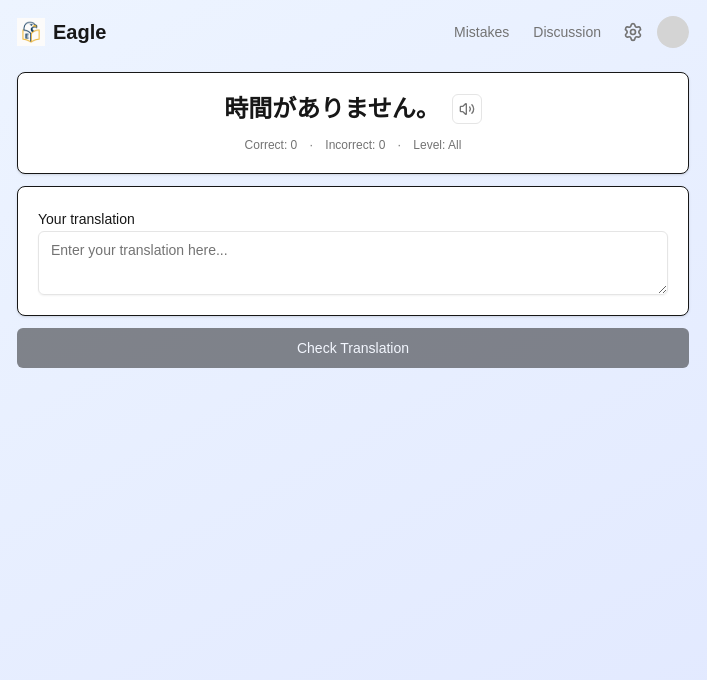
Test: review phase › fetches the explanation when Explain is pressed, and shows it beside the answer
Expected: the text "時間がありません。" is shown, [224,93,440,125]
Type "I have no time." into the text box named "Your English translation".
click(353, 263); type("I have no time.")  # box [38,231,668,295]
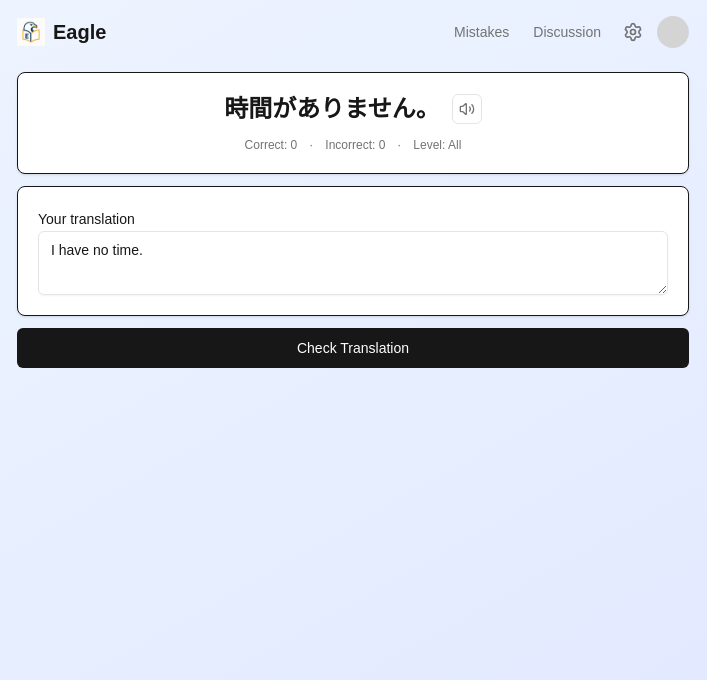
Click the button "Check Translation".
click(353, 348)  # box [17,328,689,368]
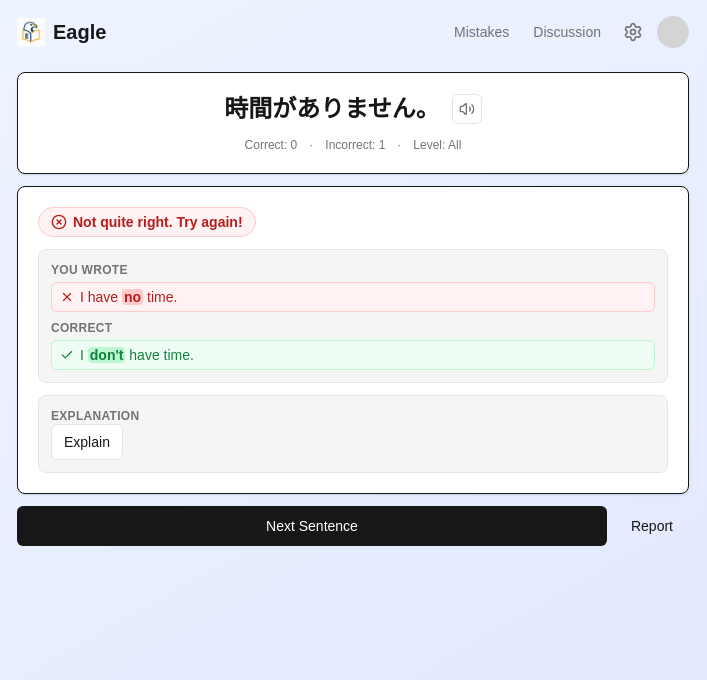
Expected: the text "Not quite right. Try again!" is shown, [38,207,256,237]
Click the button "Explain".
click(87, 442)  # box [51,424,123,460]
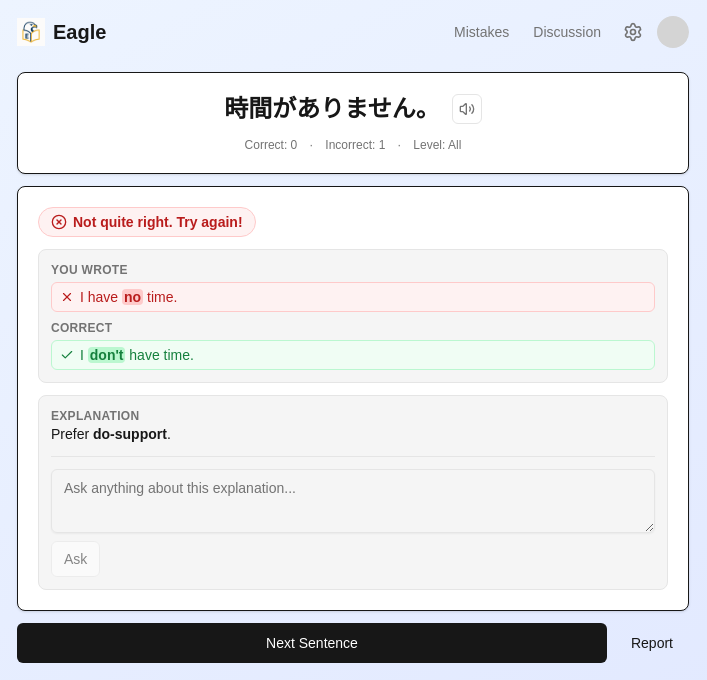
Expected: the element showing "I don't have time." is shown, [51,340,655,370]
Expected: the text "do-support" is shown, [93,426,167,442]
